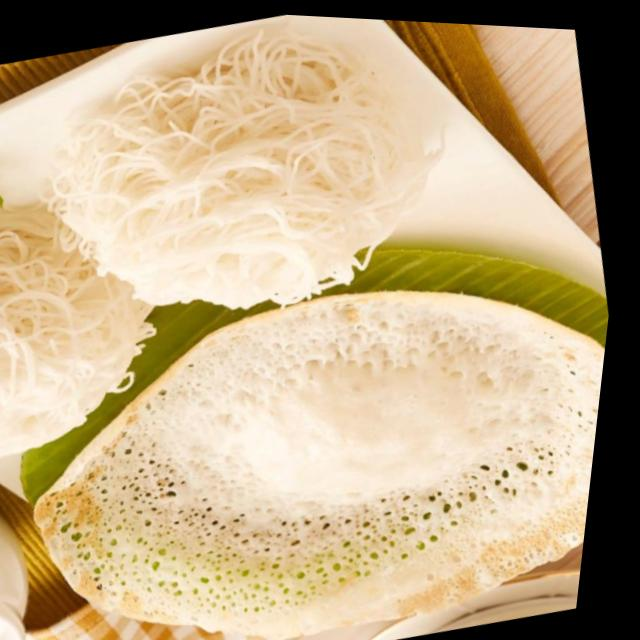AAPAM: (28, 293, 606, 637)
IDIYAPPAM: (0, 34, 414, 458)
